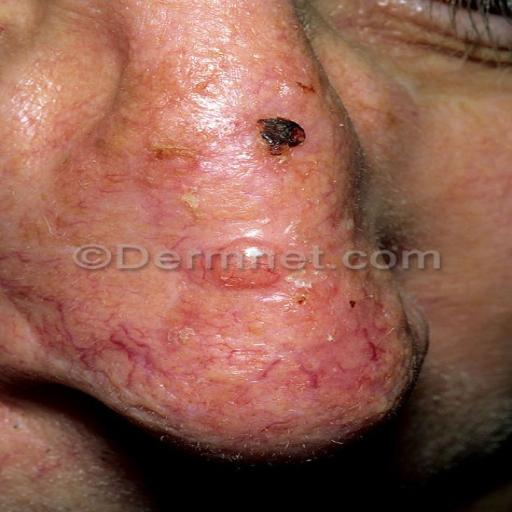Skin_Lesion: (183, 324, 280, 434), (290, 294, 404, 367), (207, 226, 288, 288), (256, 109, 308, 176)
